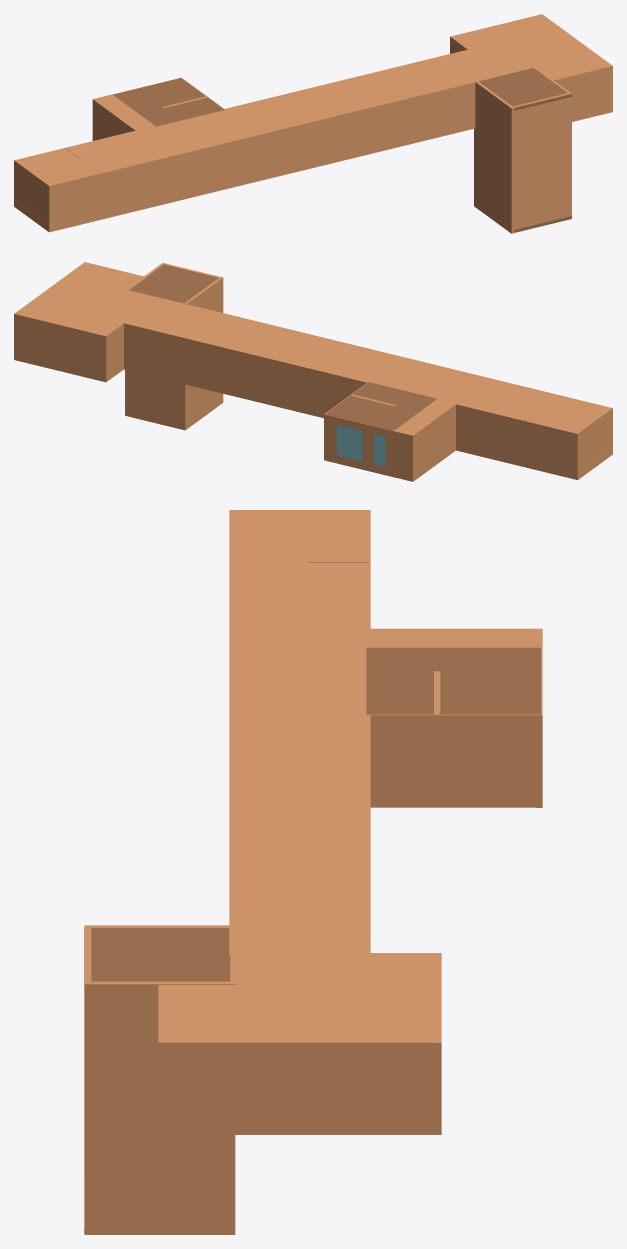
Rendered from EntornoBase.fbx.
3 renders of one model, top to bottom at view 1: azimuth 30°, elevation 25°; view 2: azimuth 150°, elevation 25°; view 3: azimuth 270°, elevation 25°, orthographic. The views are drawn at different scales.
Visible parts, largest first — view 1: Pared10, Techo, Pared1, Pared2, TechoH, Pared5, Techo2, ParedH1, Pared11, Pared6, Pared9, Suelo2; view 2: Techo, Pared9, Pared7, ParedH1, TechoH, Pared4, ParedH2, Techo2, Pared2, Pared11, Ventanas, Pared10 (+3 smaller); view 3: Techo, Pared6, Pared3, ParedH3, TechoH, Techo2, ParedH1, Pared10, Pared9, Pared1.
Part boxes in pixels (x1,y1,x2,y2): Pared10: (47, 73, 505, 231); Techo: (18, 17, 598, 184); Pared1: (513, 92, 571, 232); Pared2: (474, 81, 514, 233); TechoH: (113, 78, 224, 126); Pared5: (554, 66, 612, 121); Techo2: (478, 68, 571, 110); ParedH1: (92, 94, 157, 140); Pared11: (15, 161, 49, 223); Pared6: (529, 14, 612, 68); Pared9: (14, 49, 471, 200); Suelo2: (14, 128, 473, 232); Techo: (28, 265, 607, 431); Pared9: (122, 321, 579, 479); Pared7: (14, 314, 107, 382); ParedH1: (392, 398, 456, 481); TechoH: (326, 382, 437, 430); Pared4: (125, 370, 184, 430); ParedH2: (324, 414, 392, 476); Techo2: (129, 265, 218, 303); Pared2: (184, 276, 223, 430); Pared11: (577, 408, 611, 471); Ventanas: (337, 425, 385, 466); Pared10: (155, 297, 612, 448); Techo: (159, 511, 440, 1029); Pared6: (159, 1029, 441, 1134); Pared3: (91, 981, 235, 1234); ParedH3: (370, 712, 542, 807); TechoH: (366, 647, 540, 714); Techo2: (84, 928, 230, 989); ParedH1: (365, 628, 542, 649); Pared10: (229, 510, 235, 955); Pared9: (364, 510, 370, 955); Pared1: (85, 928, 91, 1234).
Size of the model in its own units: 3998 by 878 by 1454.
